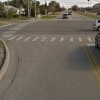crosswalk: (7, 36, 92, 42)
